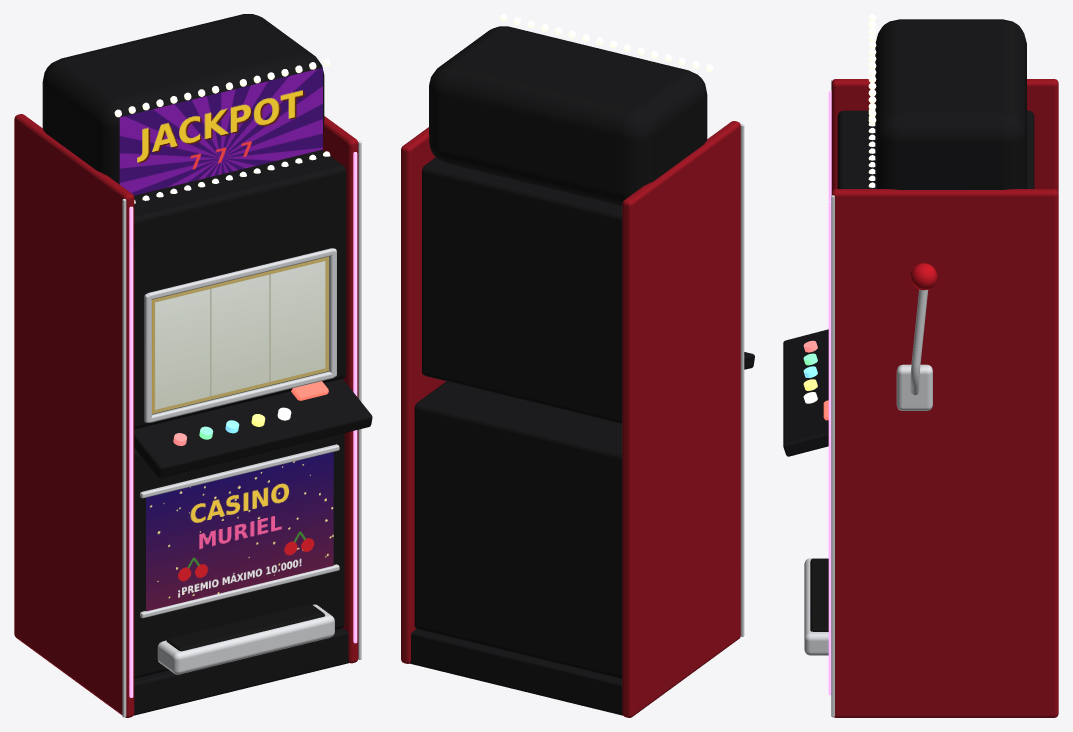
File: tragaperras.glb
The picture shows the model from 3 angles, left to right: view 1: azimuth 30°, elevation 25°; view 2: azimuth 150°, elevation 25°; view 3: azimuth 270°, elevation 25°; orthographic projection.
Visible parts, largest first — view 1: tragaperras; view 2: tragaperras; view 3: tragaperras.
Boxes of the visible parts, left/top/right/bottom form: tragaperras: left=14, top=14, right=372, bottom=717; tragaperras: left=401, top=14, right=754, bottom=717; tragaperras: left=783, top=14, right=1058, bottom=717.
Bounding box in the file's own units: 1.05 × 2.17 × 0.9095.
Materials: 17 (3 with a texture image).
